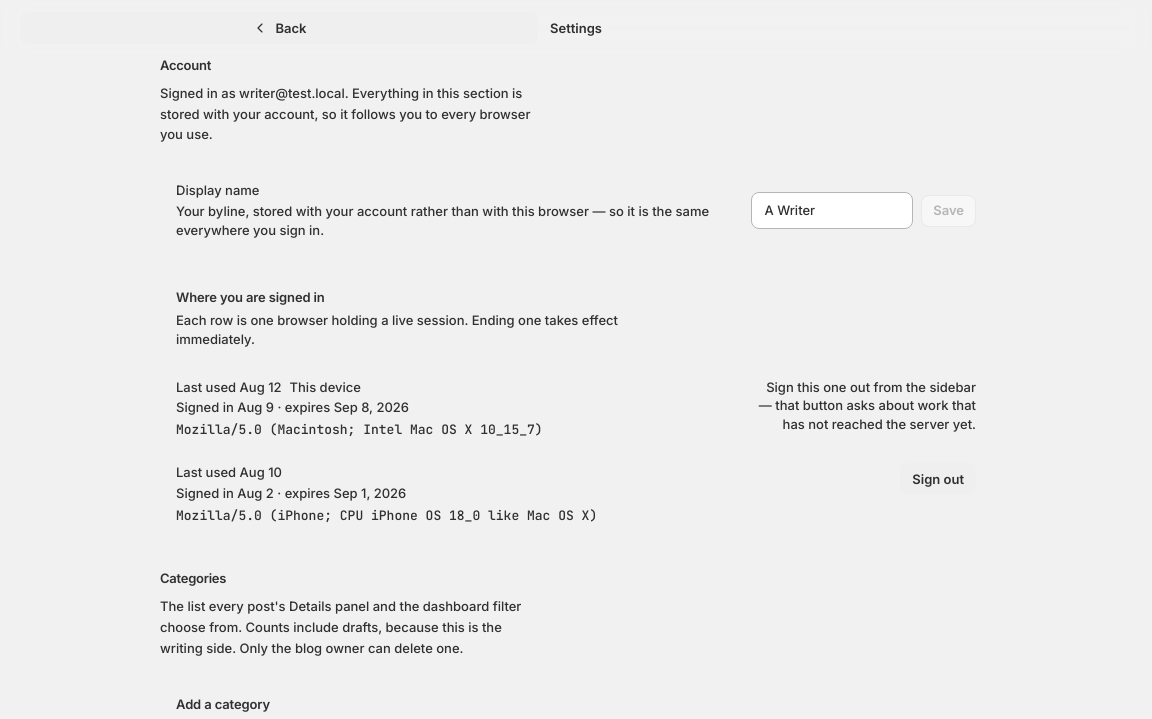
display name › puts the server refusal under the field
The width and height of the screenshot is (1152, 719).
Replace the text in the field named "Display name" with "Something" at (832, 210), box [752,192,913,229]
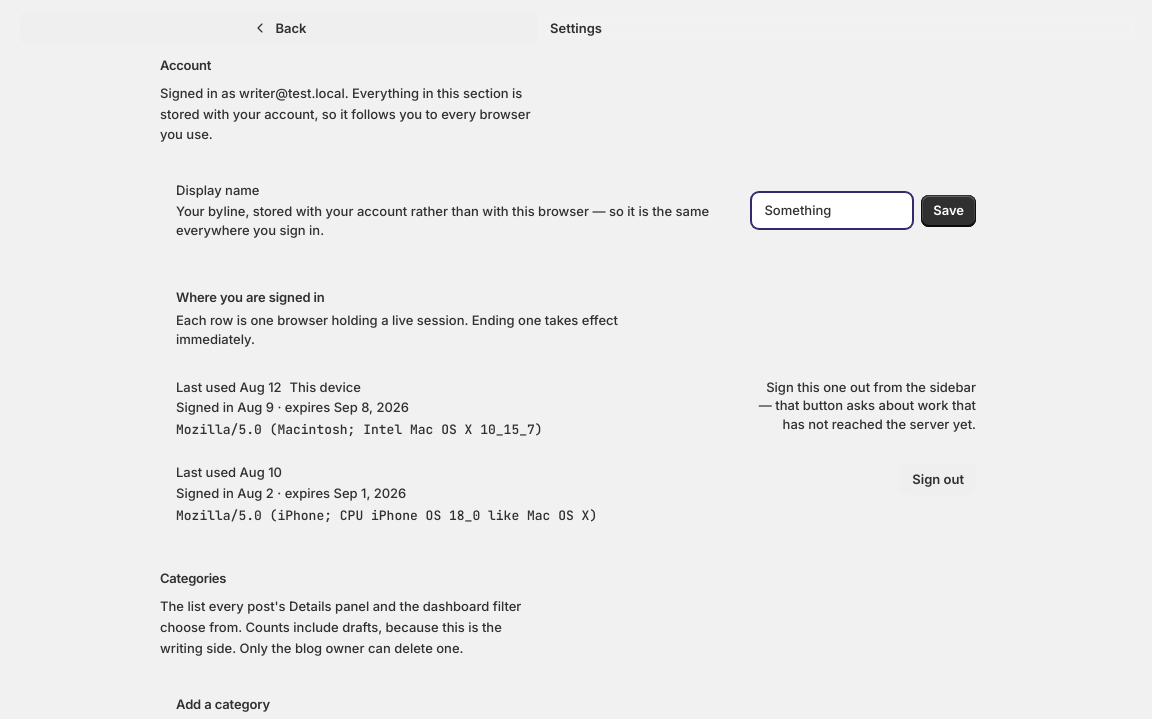
Click the button "Save".
click(949, 210)  # box [921,194,976,226]
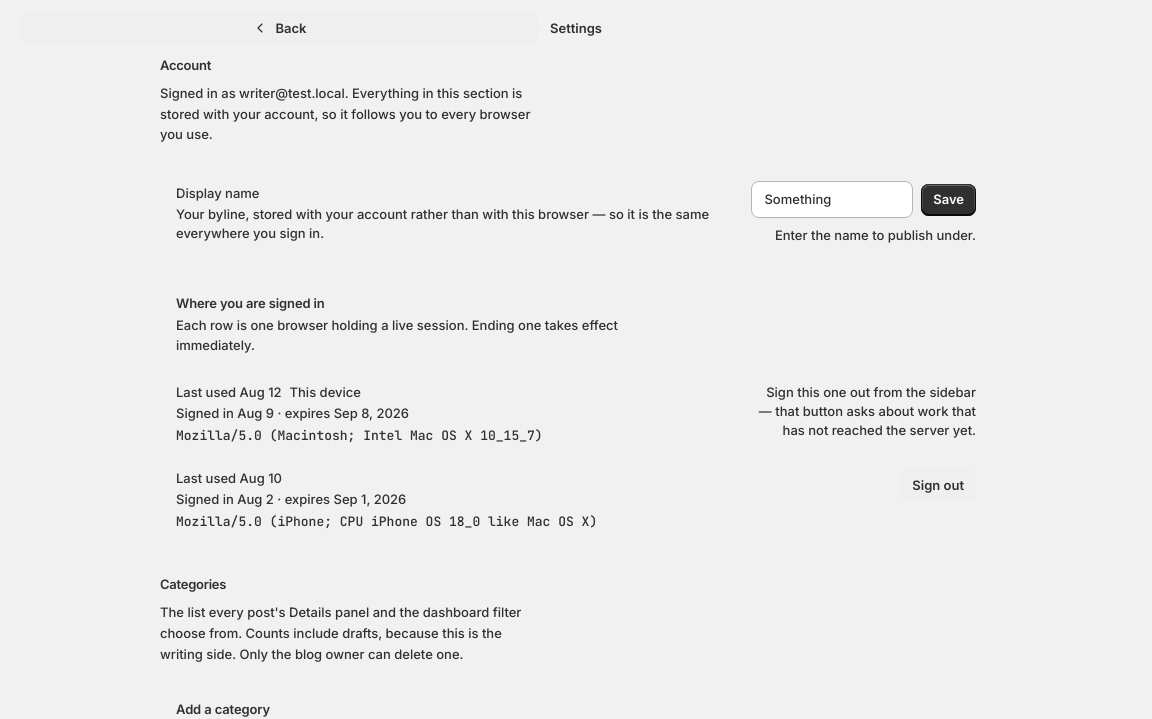
Check: the text "Enter the name to publish under." is shown, box [775,226,976,246]
